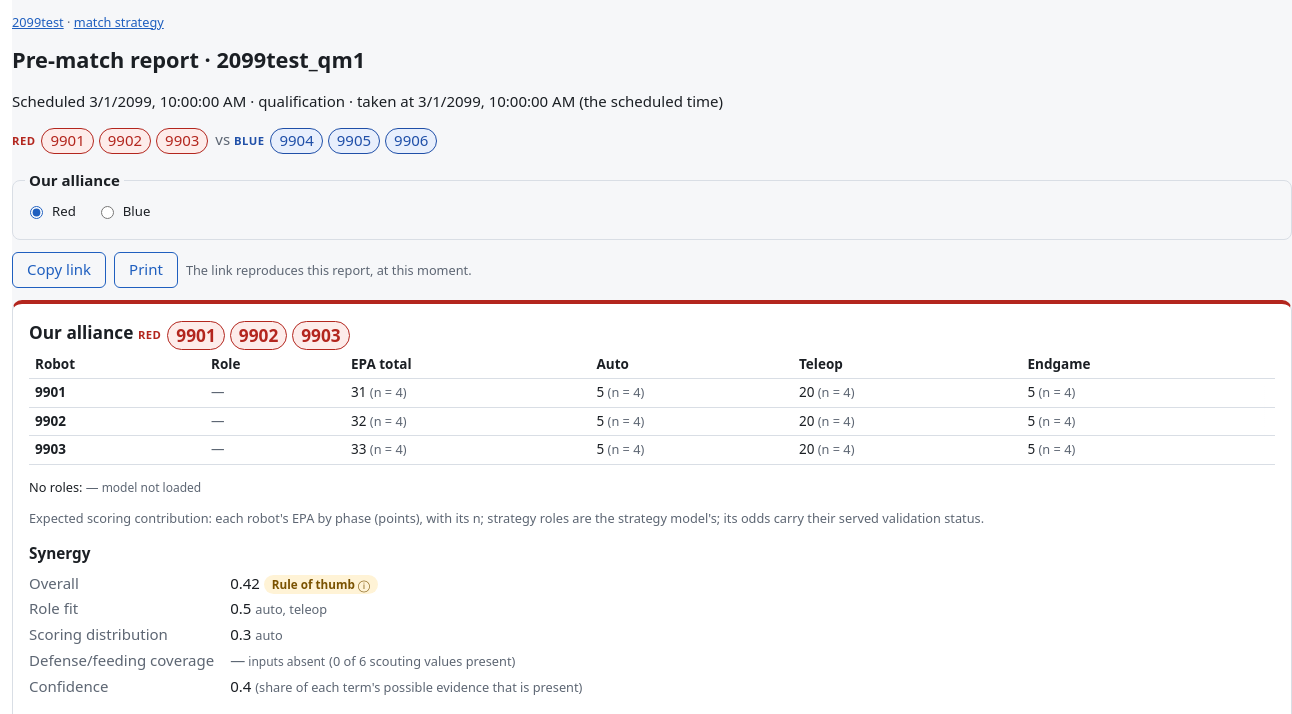
Scenario: ReportPage (P8-M6) › swaps our alliance through the URL, so the link reproduces the view
Expected: the heading "Our alliance Red 9901 9902 9903" is shown, [29, 321, 350, 350]
Click the radio button with aria-label "Our alliance: Blue": click(107, 213) [101, 206, 114, 219]
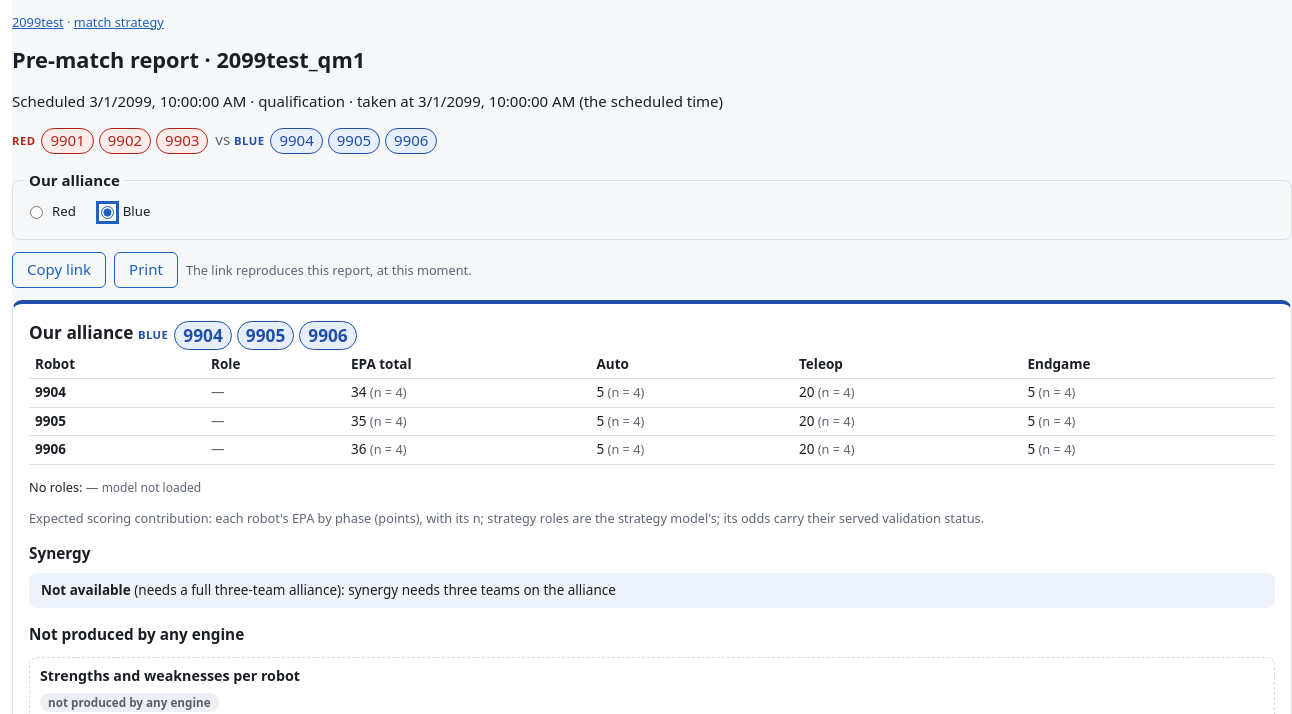
Result: the 2nd link "9904" is shown at [174, 321, 232, 350]
